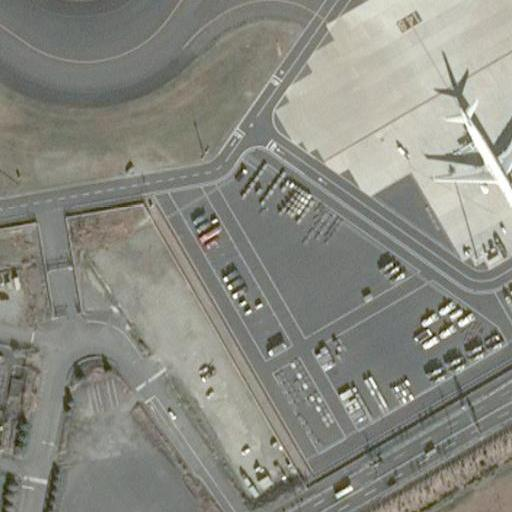Aircraft: (426, 94, 512, 234)
